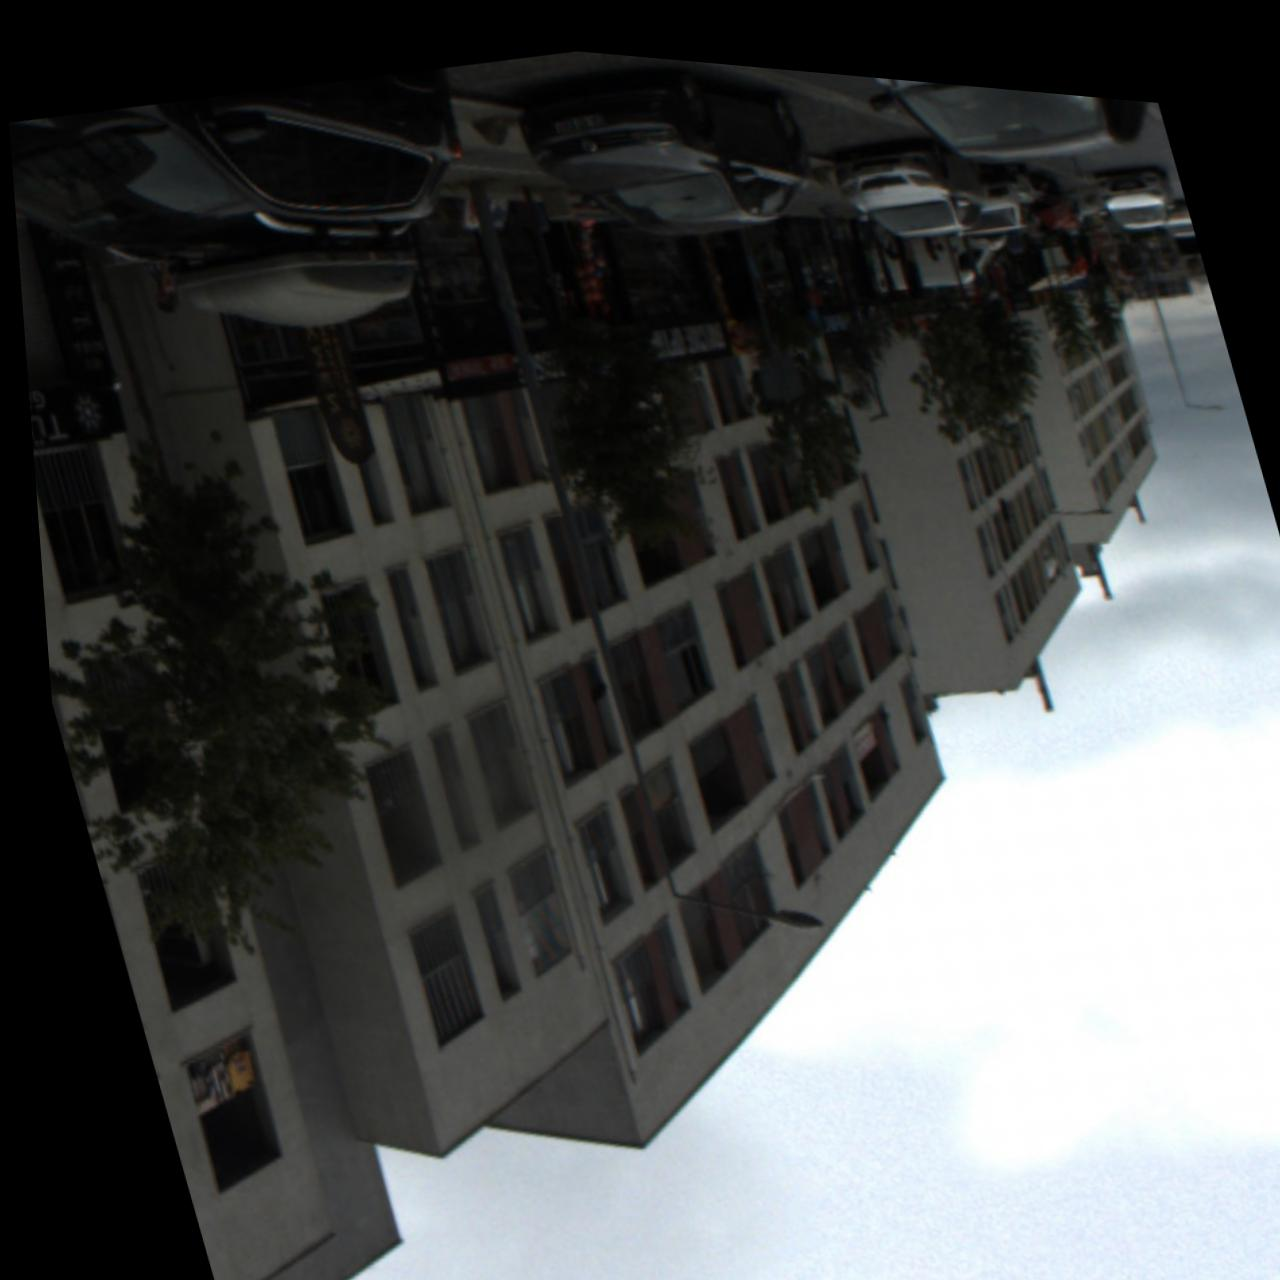SignStore: (502, 300, 727, 377), (22, 384, 104, 448)
